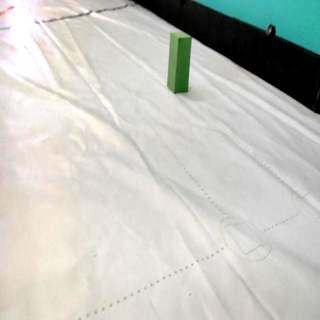greenbox: (167, 28, 193, 94)
